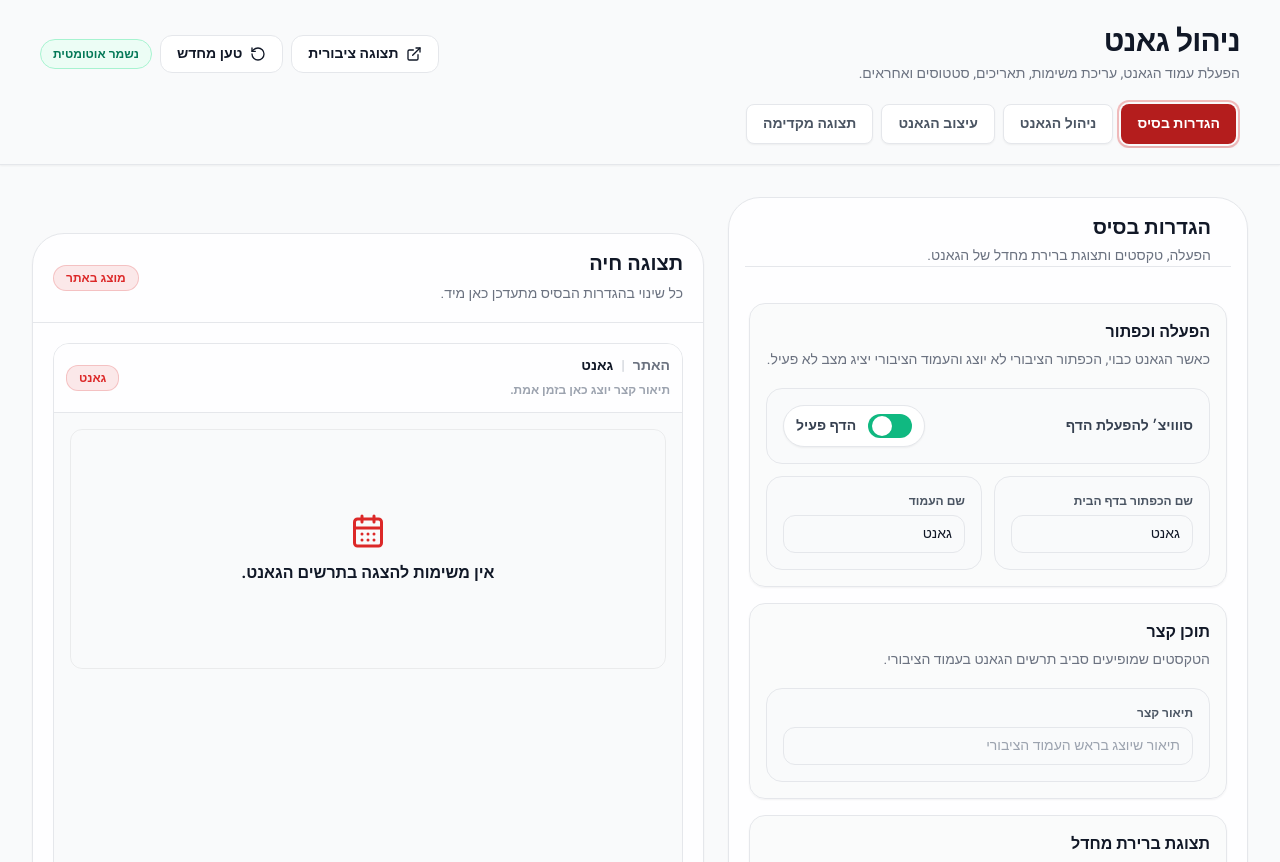
Test: AdminGantt category combobox › also renders existing categories as quick-select chips below the input
What coordinates should you click on to do the following:
click the tab "ניהול הגאנט"
I would click on:
 (1058, 124)
Its box is [1003, 104, 1113, 144].
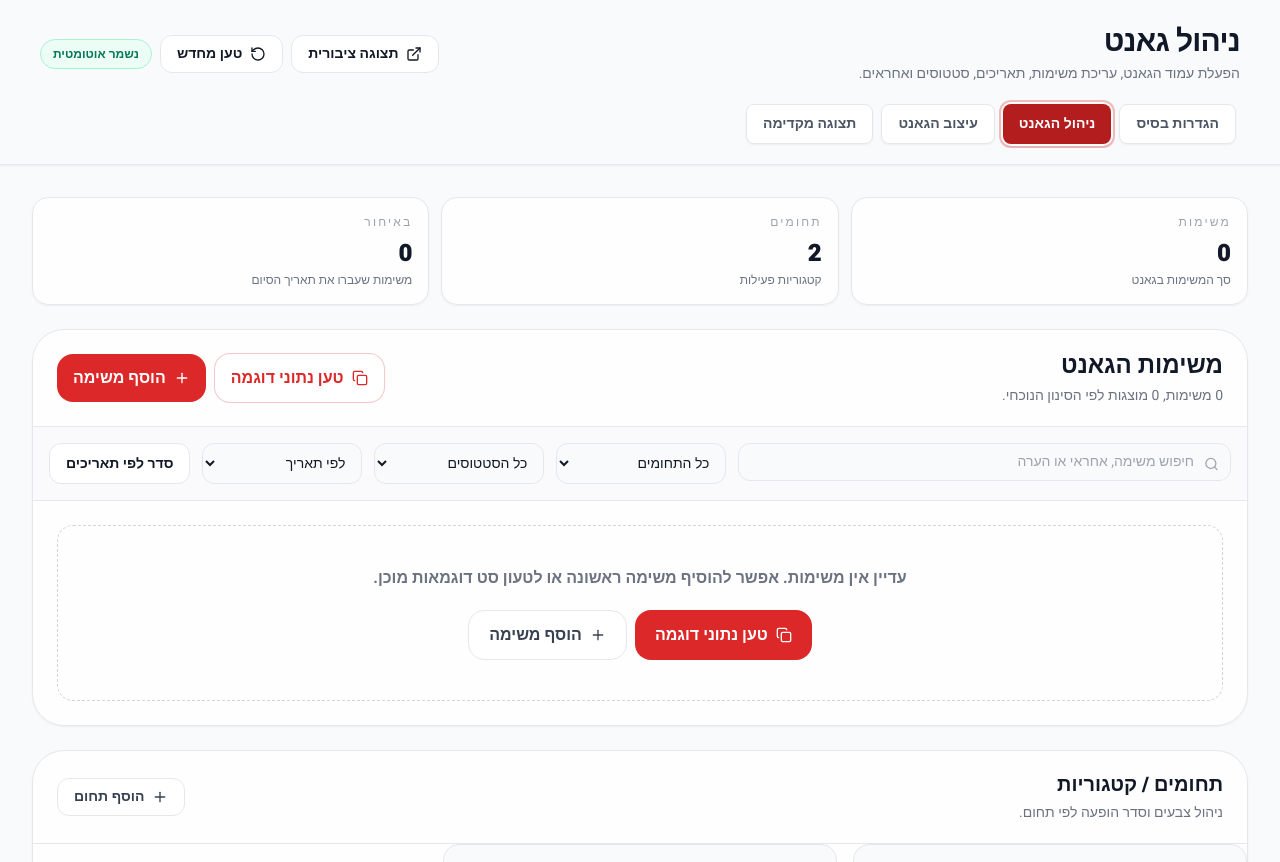
What coordinates should you click on to do the following:
click the button "הוסף משימה" in the row of "מוצגות לפי הסינון הנוכחי."
I would click on:
 (131, 378)
Its box is [57, 354, 206, 402].
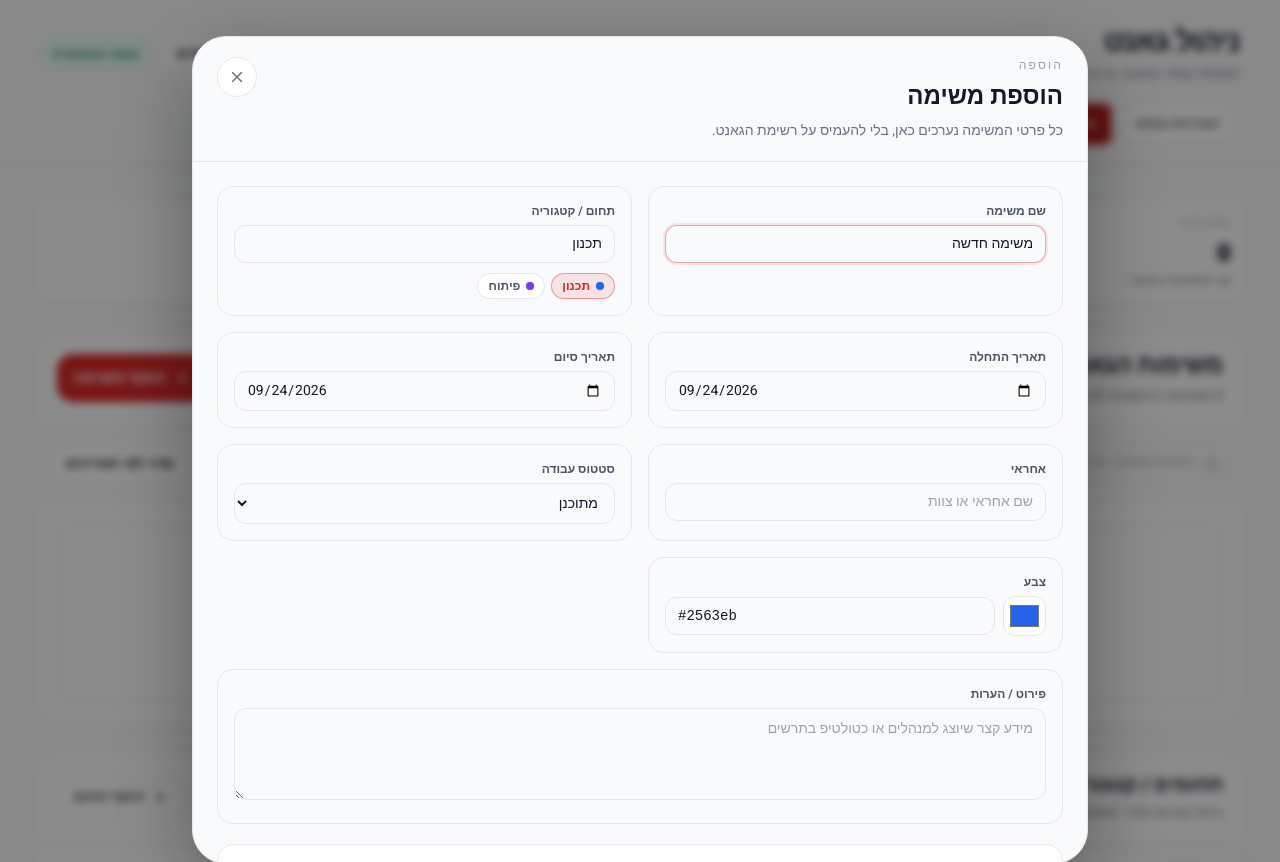
expect the button "תכנון" is shown: met, box [551, 273, 615, 299]
expect the button "פיתוח" is shown: met
What coordinates should you click on to do the following:
click the button "פיתוח"
I would click on:
 (511, 286)
Its box is [478, 273, 545, 299].
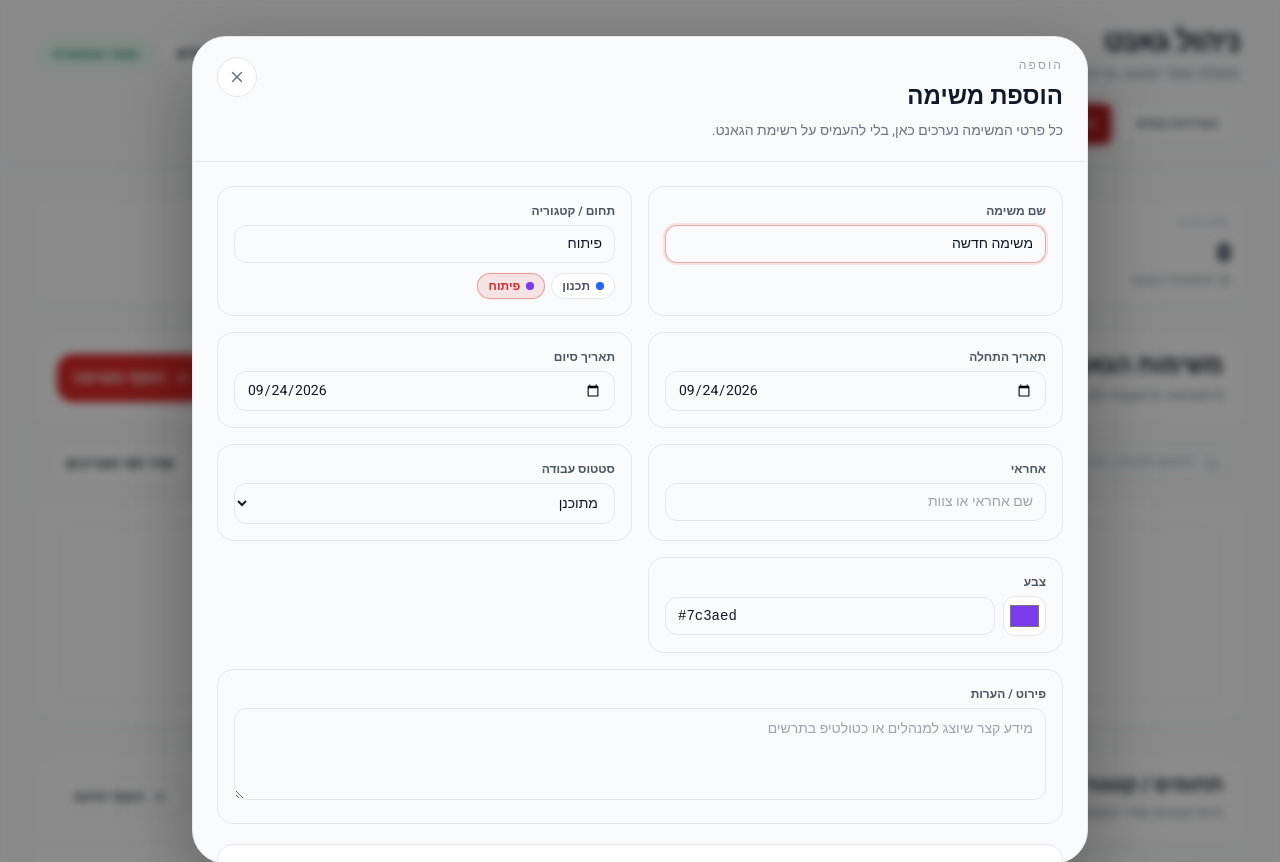
expect the dropdown labelled "תחום / קטגוריה" holds "פיתוח": met, box [234, 225, 615, 263]
